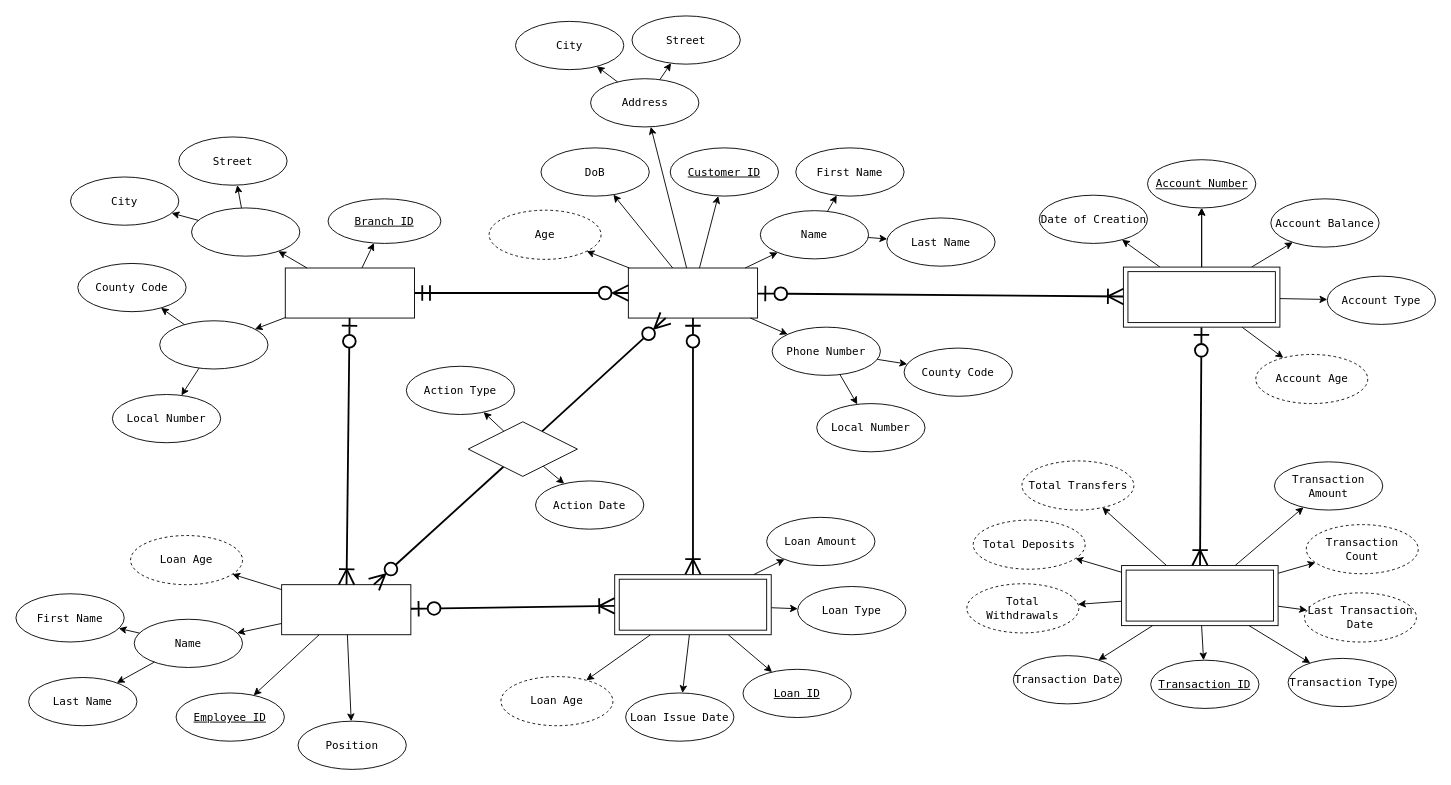
This 1451x785 diagram has some shape labels left out. Each missing label, with the centre of its shape:
Accounts: (x=1201, y=296)
Assist: (x=522, y=448)
Branch Address: (x=245, y=231)
Branch Phone Number: (x=213, y=344)
Branches: (x=349, y=292)
Customers: (x=692, y=292)
Employee: (x=346, y=609)
Loans: (x=692, y=604)
Transaction: (x=1199, y=595)
